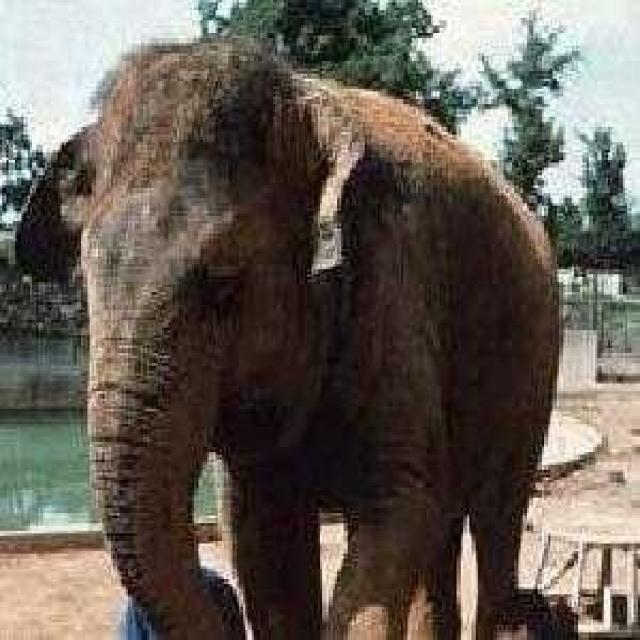Elephant: (13, 33, 563, 637)
